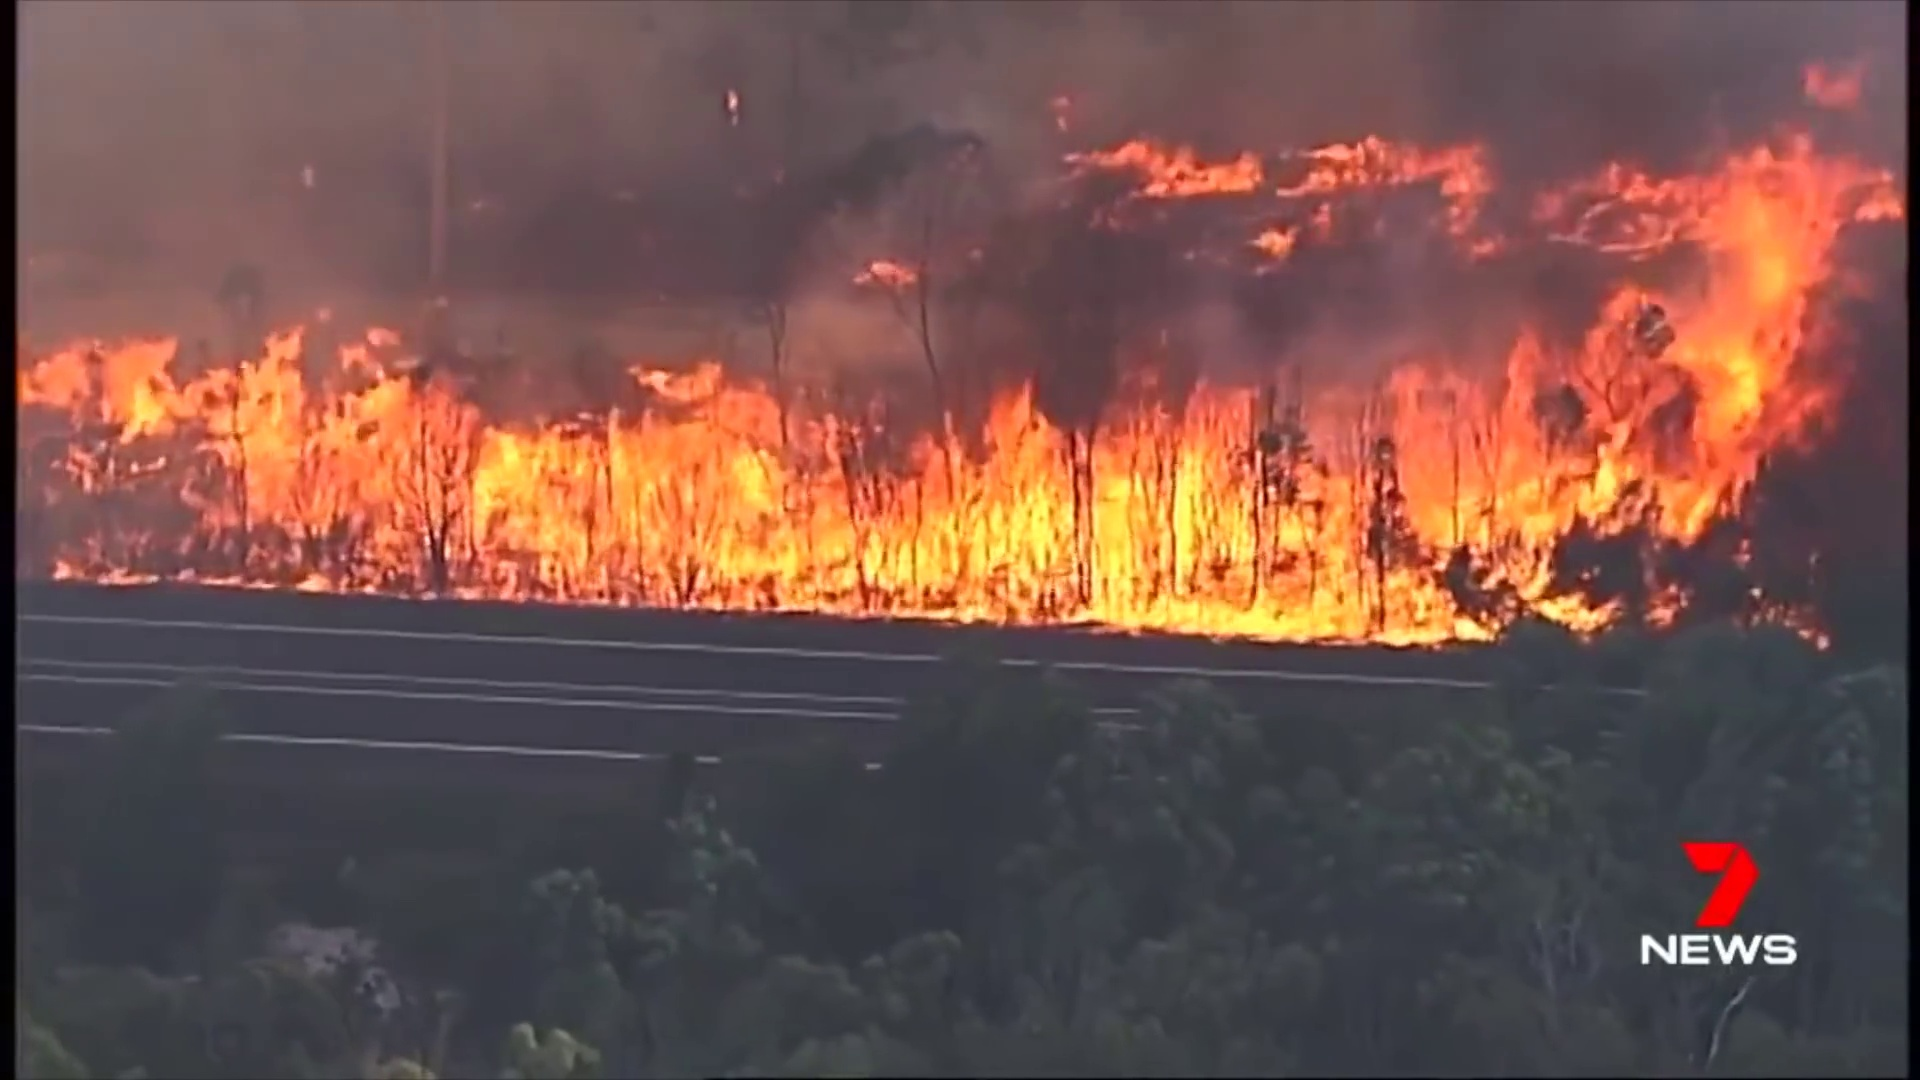fire: (189, 364, 1495, 622), (1592, 152, 1824, 481), (36, 342, 182, 431), (1091, 146, 1267, 194), (1319, 140, 1484, 182), (1539, 589, 1611, 632)
